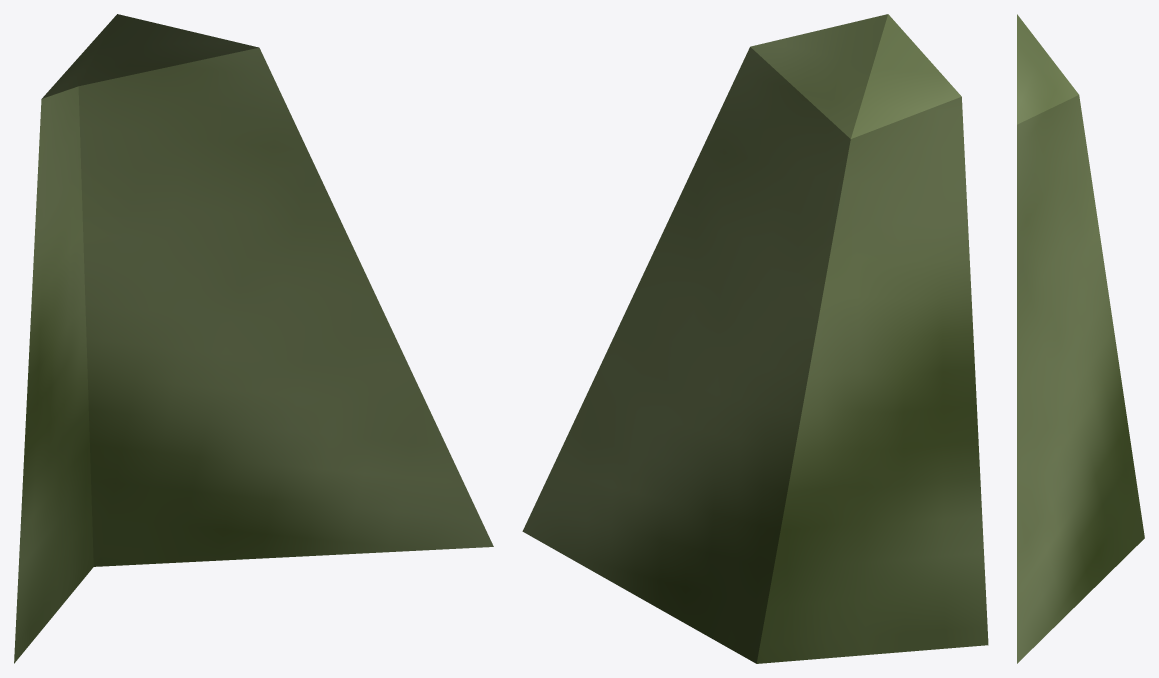
The picture shows the model from 3 angles, left to right: view 1: azimuth 30°, elevation 25°; view 2: azimuth 150°, elevation 25°; view 3: azimuth 270°, elevation 25°; orthographic projection. The views are drawn at different scales.
Bounding box in the file's own units: 0.1495 × 0.186 × 0.0429.
Materials: 1 (1 with a texture image).
